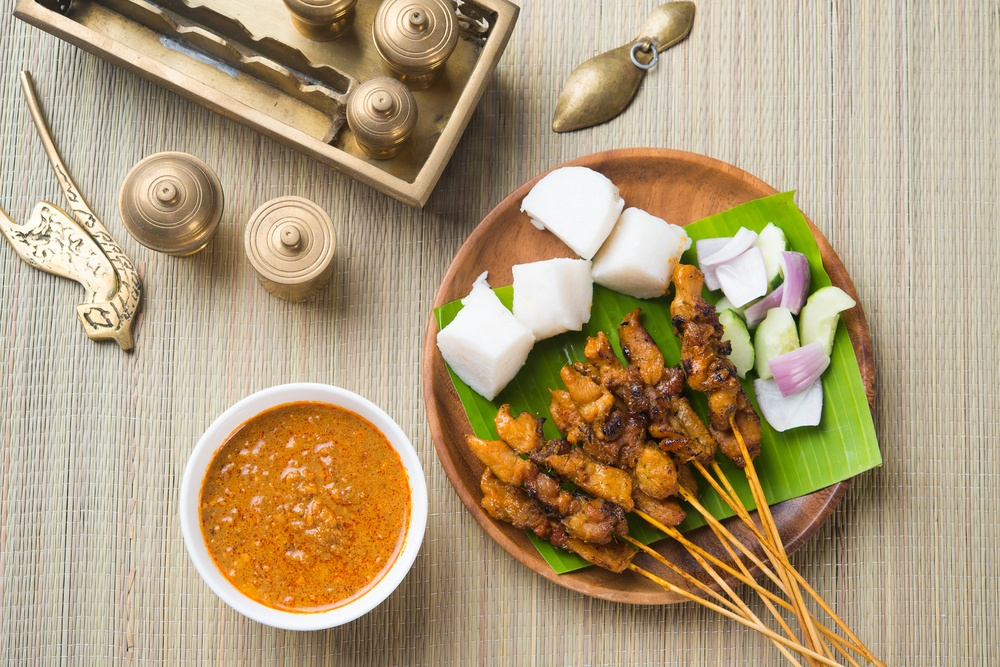sate: (462, 258, 765, 575)
